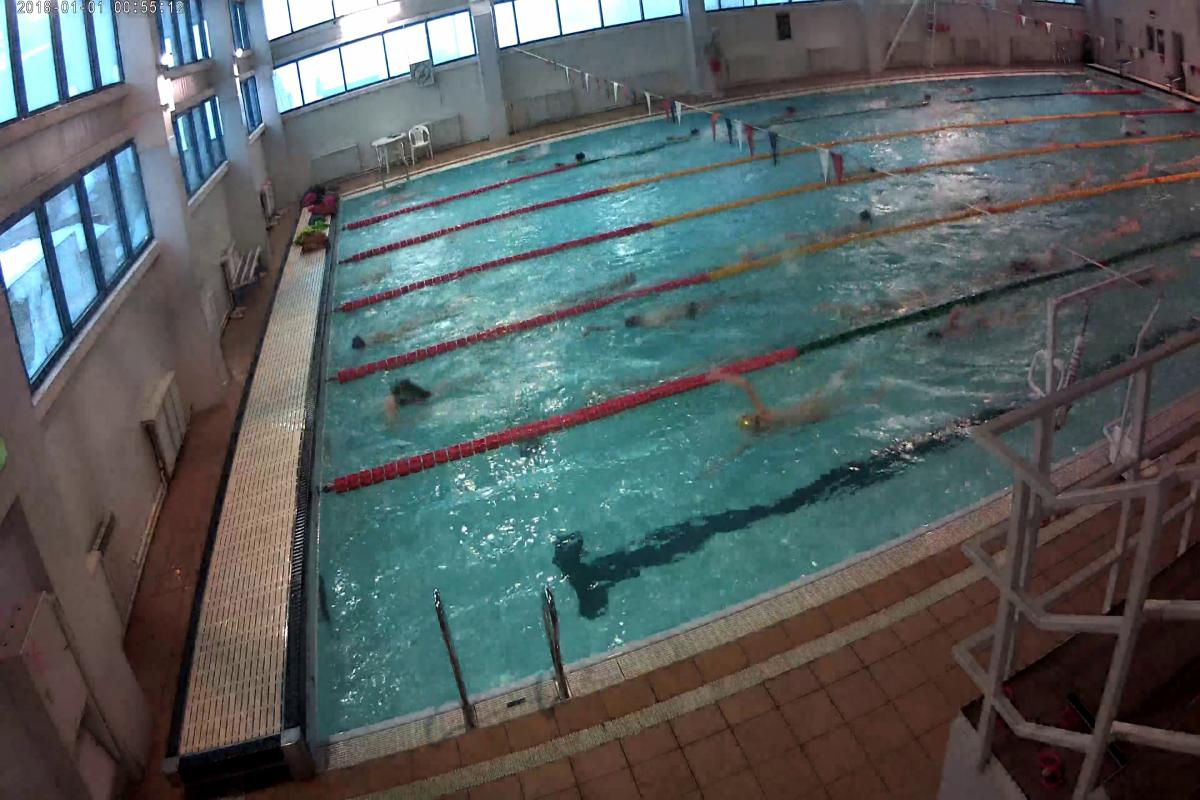swimmer: (715, 386, 844, 450), (602, 293, 719, 345), (341, 312, 427, 354), (371, 378, 433, 430)
